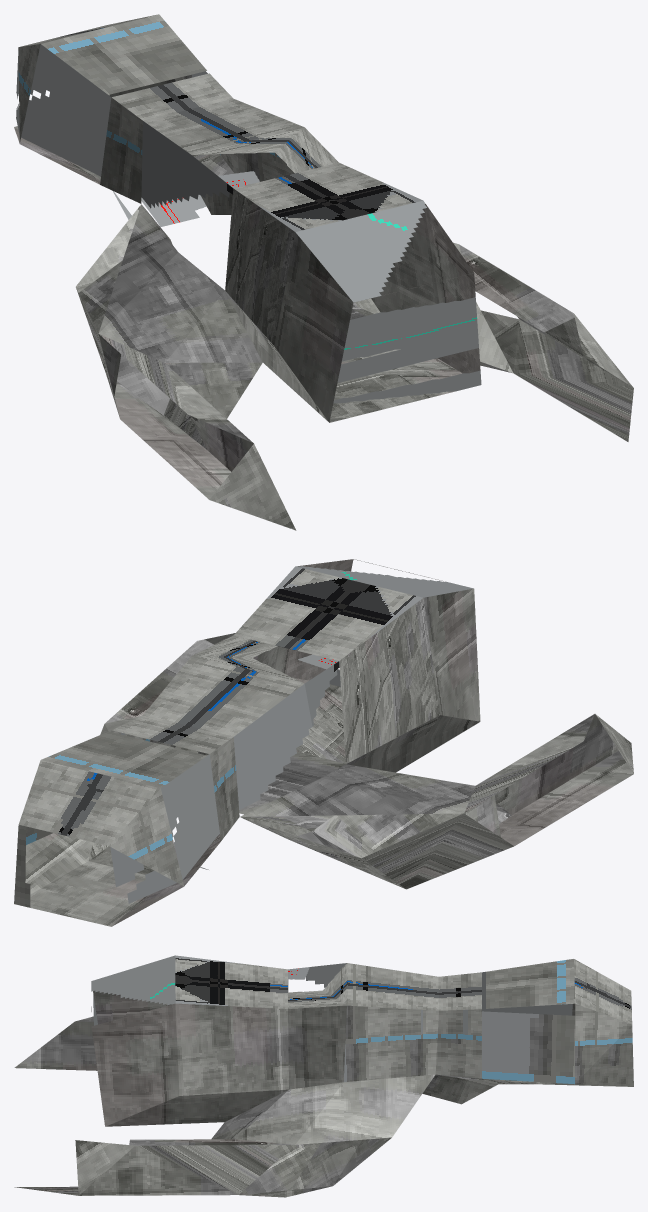
Rendered from Cargobargetexturedtest.gltf.
3 renders of one model, top to bottom at view 1: azimuth 30°, elevation 25°; view 2: azimuth 150°, elevation 25°; view 3: azimuth 270°, elevation 25°, orthographic. The views are drawn at different scales.
Parts seen in each view (by area): view 1: cuboid; view 2: cuboid; view 3: cuboid.
Boxes of the visible parts, x1,y1,x2,y2 form: cuboid: (14, 14, 633, 530); cuboid: (14, 559, 633, 926); cuboid: (14, 955, 633, 1197).
Size of the model in its own units: 1.17 by 0.5847 by 1.92.
Materials: 2 (2 with a texture image).
